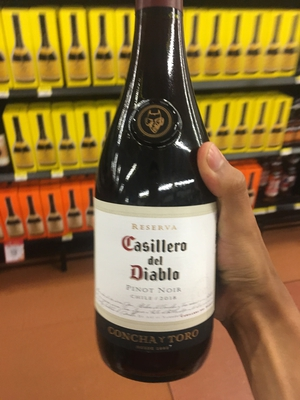casillero del diablo pinot noir: (95, 5, 219, 375)
